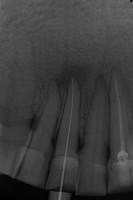Furcation Involvement: (50, 61, 94, 89), (95, 74, 108, 86)
